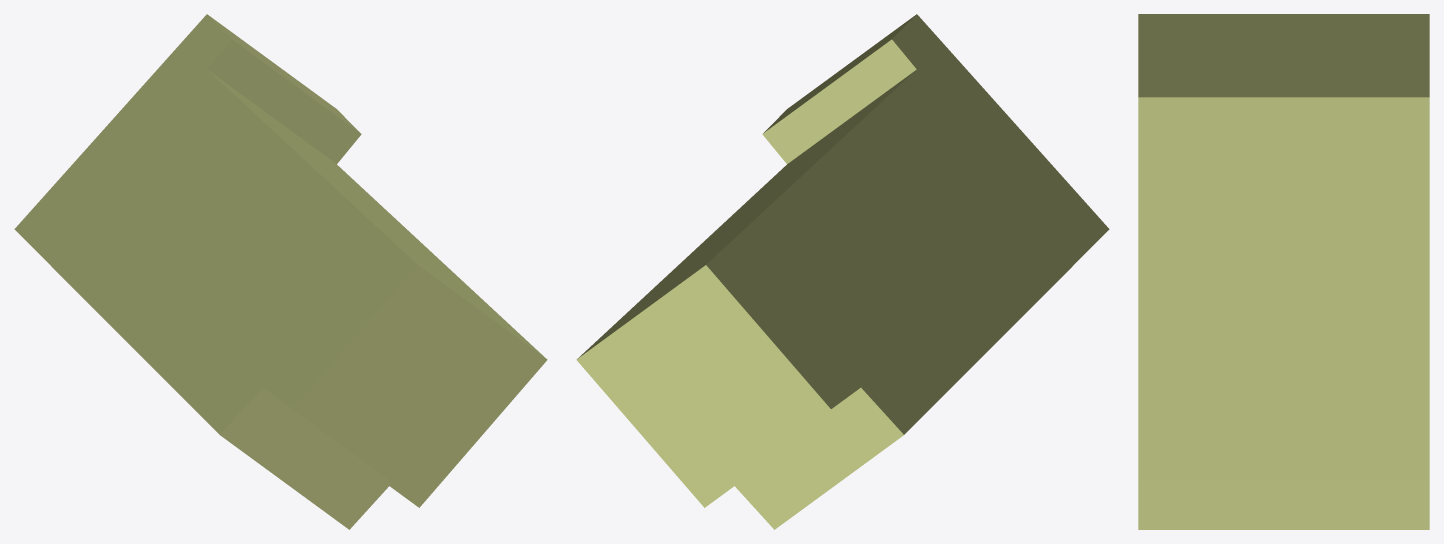
3 views of the same model, side by side, from view 1: azimuth 30°, elevation 25°; view 2: azimuth 150°, elevation 25°; view 3: azimuth 270°, elevation 25° (orthographic). The views are drawn at different scales.
Visible parts, largest first — view 1: 0_1_0_2_1_3_3_1; view 2: 0_1_0_2_1_3_3_1; view 3: 0_1_0_2_1_3_3_1.
Boxes of the visible parts, box(x1,y1,x2,y2) form: 0_1_0_2_1_3_3_1: box(14, 14, 547, 529); 0_1_0_2_1_3_3_1: box(576, 14, 1109, 529); 0_1_0_2_1_3_3_1: box(1138, 14, 1429, 529).
Size of the model in its own units: 10.78 by 10.83 by 6.
